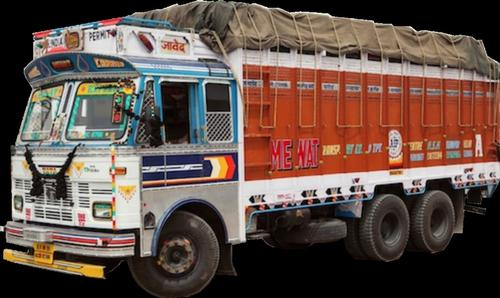truck: (7, 2, 500, 296)
